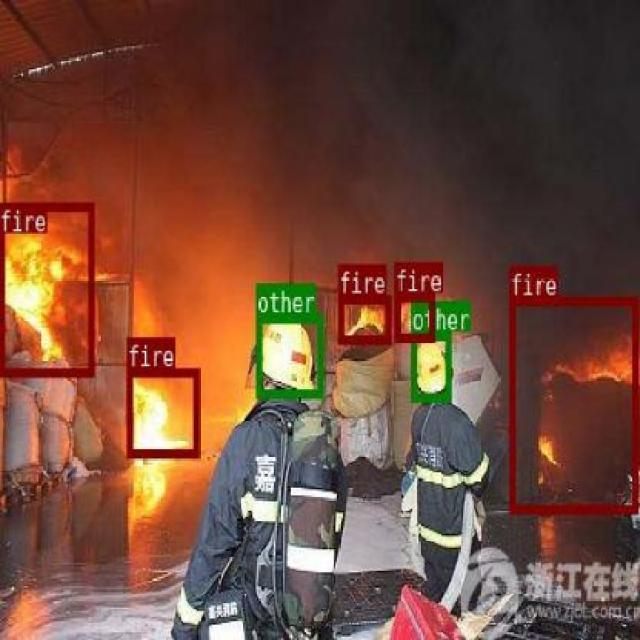Fire: (537, 283, 640, 508), (115, 275, 203, 510), (0, 183, 83, 348), (338, 303, 423, 347)
Smoke: (43, 0, 615, 497)
